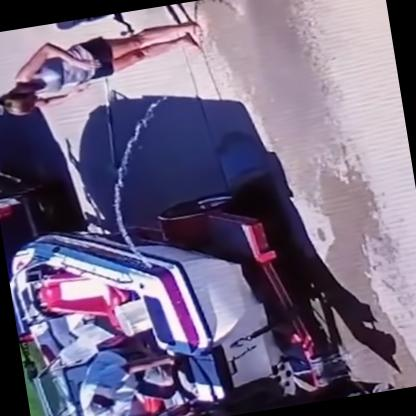Human Body: (0, 0, 216, 134)
